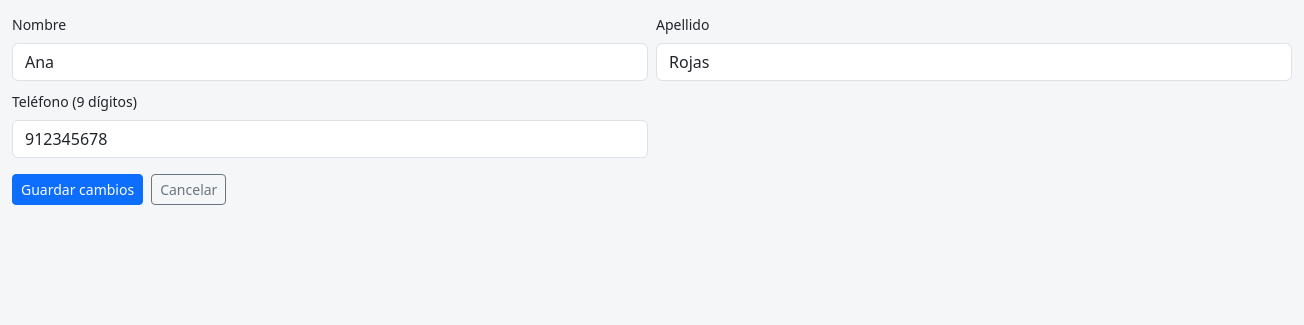
it: FormContacto (HU 2.2) › muestra el error que devuelve el backend
Click the button "Guardar cambios": (78, 190) 12,174 -> 143,205
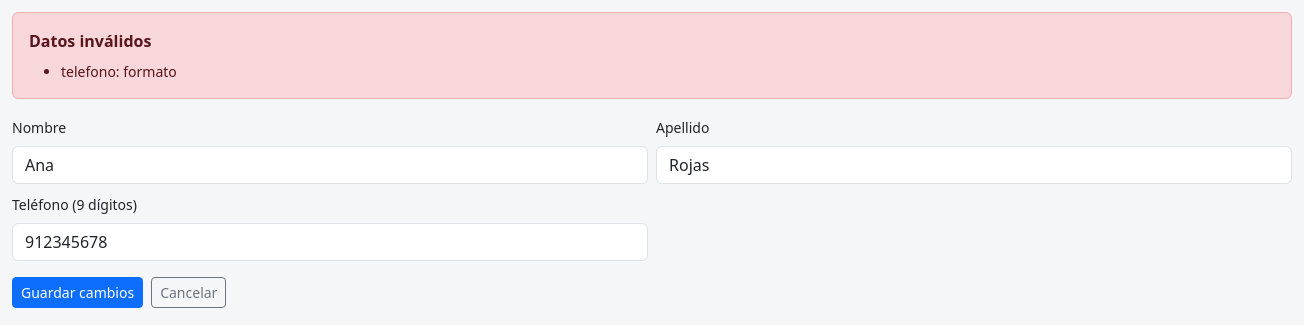
Now the message shows "Datos inválidos", box 29,30 -> 151,52
